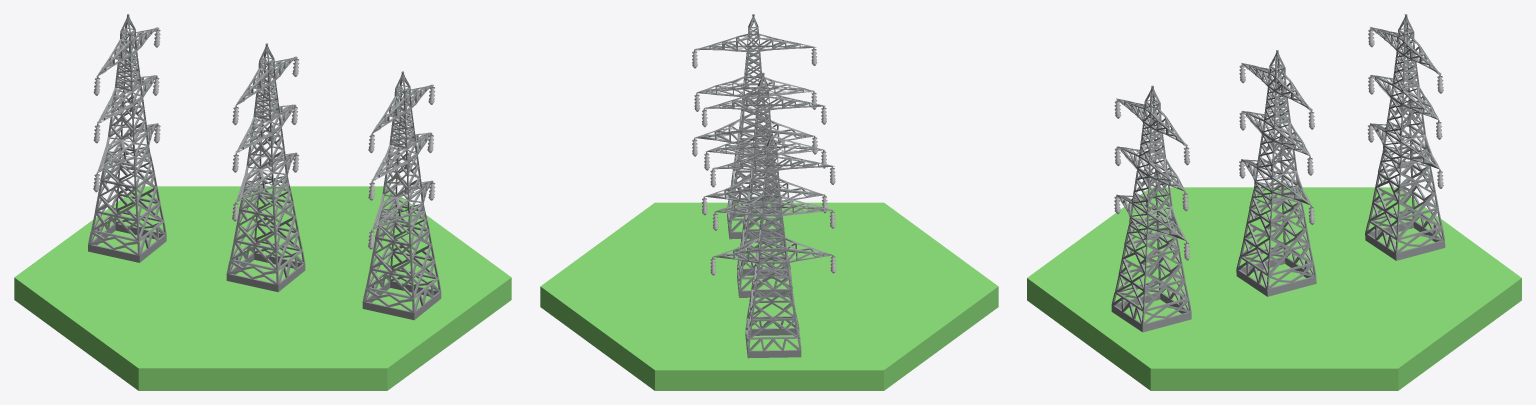
Rendered from transmissiontowers.fbx.
3 views of the same model, side by side, from view 1: azimuth 30°, elevation 25°; view 2: azimuth 150°, elevation 25°; view 3: azimuth 270°, elevation 25° (orthographic). The views are drawn at different scales.
Visible parts, largest first — view 1: Hexagon, Cabletower.003, Cabletower.002, Cabletower.001; view 2: Hexagon, Cabletower.001, Cabletower.002, Cabletower.003; view 3: Hexagon, Cabletower.002, Cabletower.003, Cabletower.001.
Part boxes in pixels (bbox=[...]): Hexagon: bbox=[14, 186, 511, 390]; Cabletower.003: bbox=[362, 71, 441, 320]; Cabletower.002: bbox=[226, 43, 305, 292]; Cabletower.001: bbox=[88, 14, 166, 262]; Hexagon: bbox=[540, 202, 998, 390]; Cabletower.001: bbox=[710, 133, 836, 358]; Cabletower.002: bbox=[701, 72, 827, 297]; Cabletower.003: bbox=[692, 14, 817, 239]; Hexagon: bbox=[1027, 187, 1521, 390]; Cabletower.002: bbox=[1236, 50, 1316, 296]; Cabletower.003: bbox=[1111, 85, 1191, 332]; Cabletower.001: bbox=[1365, 14, 1445, 260].
Bounding box in the file's own units: 191590 × 165921 × 107905.
